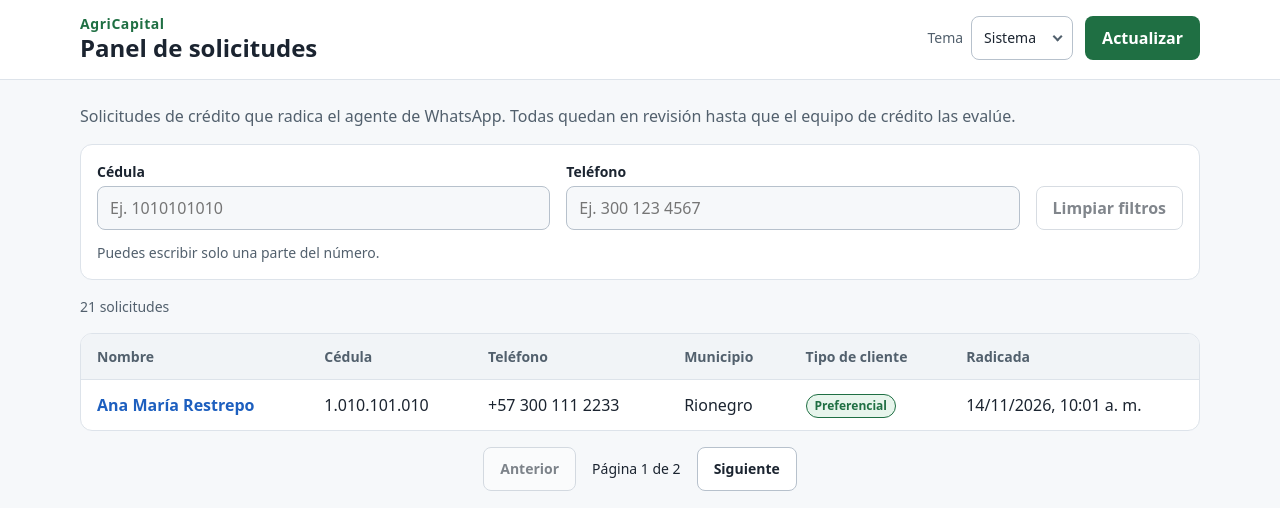
Scenario: Panel de solicitudes › al filtrar desde otra página no pide la página 1 con el filtro anterior
The width and height of the screenshot is (1280, 508).
Click the button "Siguiente".
click(747, 469)  # box [697,447,797,491]
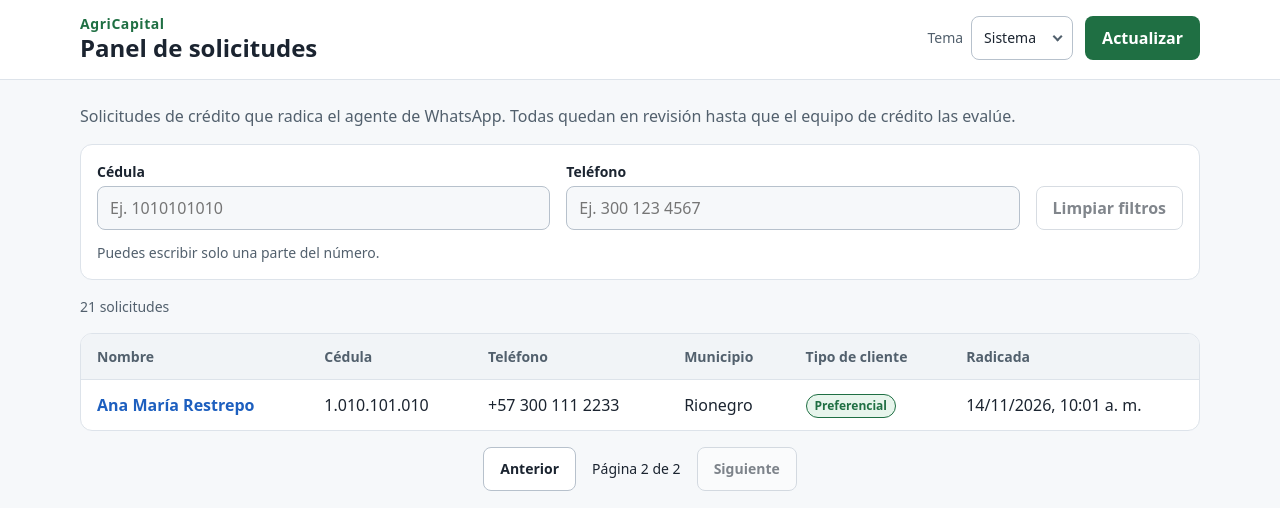
Result: the text "Página 2 de 2" is shown at [592,458,681,479]
Type "1010" into the search field labelled "Cédula".
click(324, 208); type("1010")  # box [97,186,550,230]
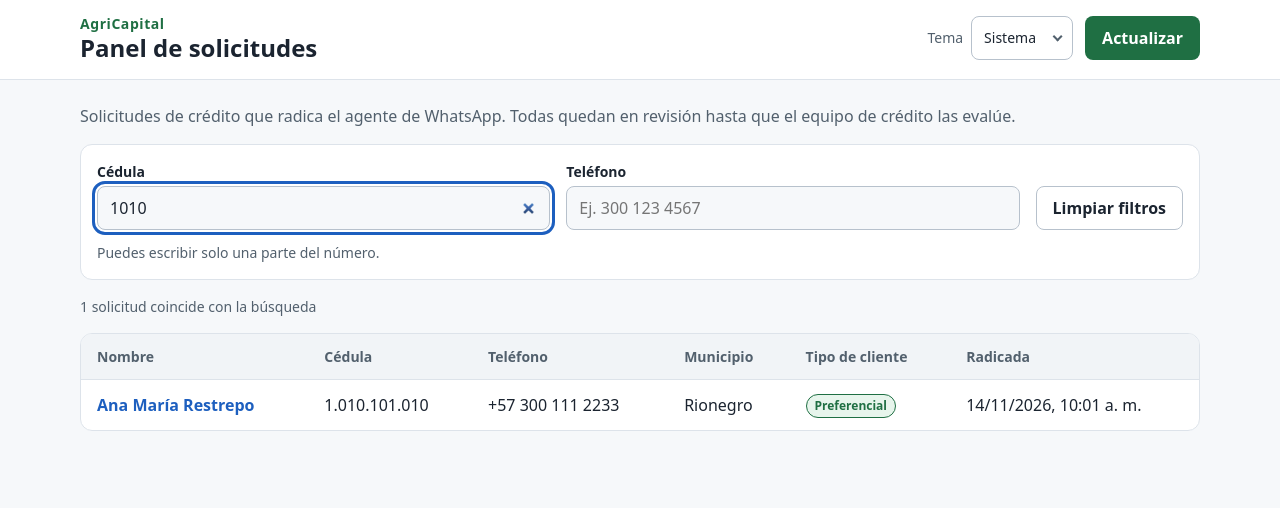
Result: the text "1 solicitud coincide con la búsqueda" is shown at [80,297,316,316]
